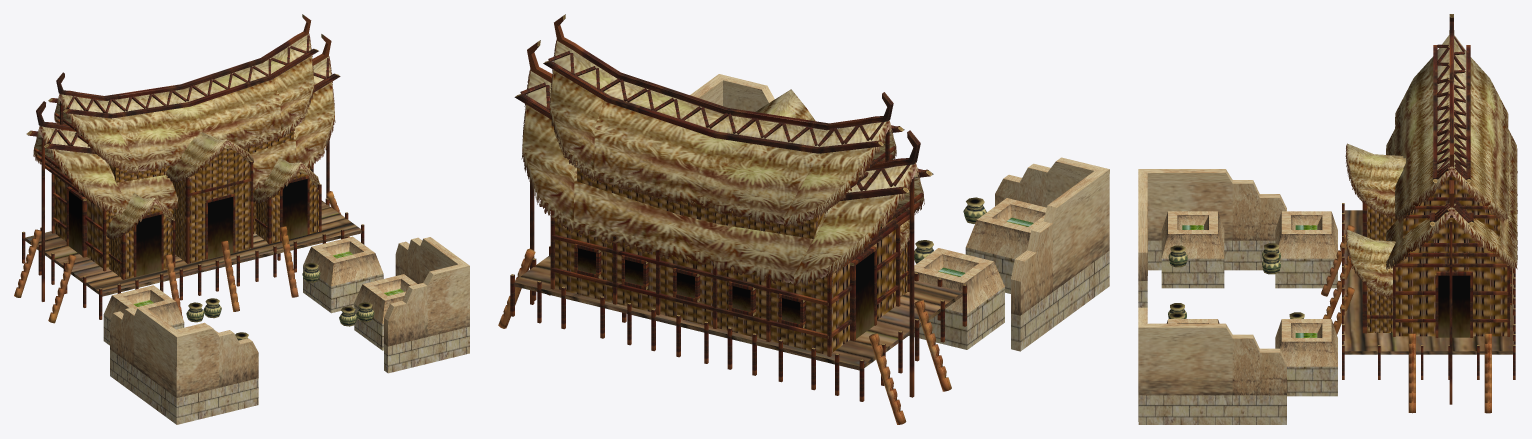
3 views of the same model, side by side, from view 1: azimuth 30°, elevation 25°; view 2: azimuth 150°, elevation 25°; view 3: azimuth 270°, elevation 25° (orthographic). The views are drawn at different scales.
Parts seen in each view (by area): view 1: cc; view 2: cc; view 3: cc.
Part boxes in pixels (x1,y1,x2,y2): cc: (14, 14, 469, 424); cc: (498, 14, 1109, 424); cc: (1138, 14, 1517, 424).
Bounding box in the file's own units: 26.33 × 25.59 × 19.94.
